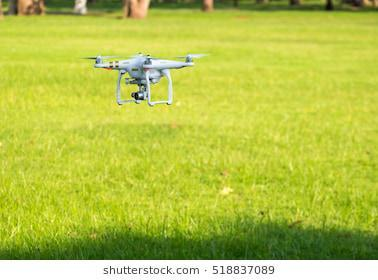drone: (77, 48, 211, 111)
